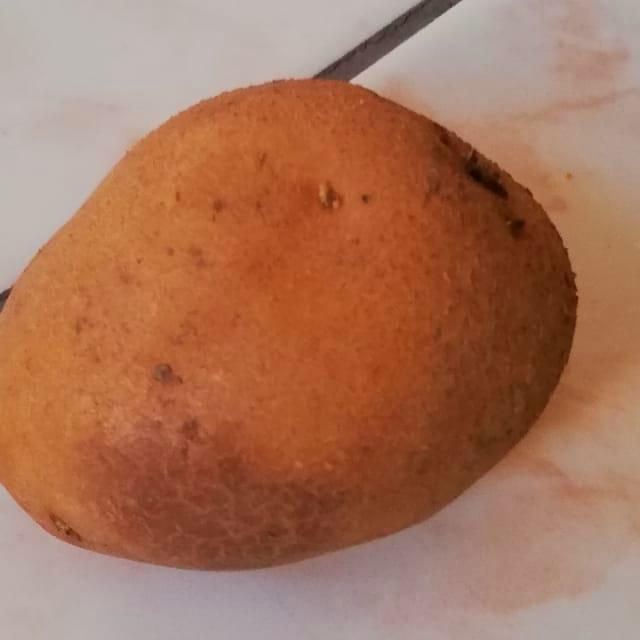potato: (0, 69, 591, 579)
